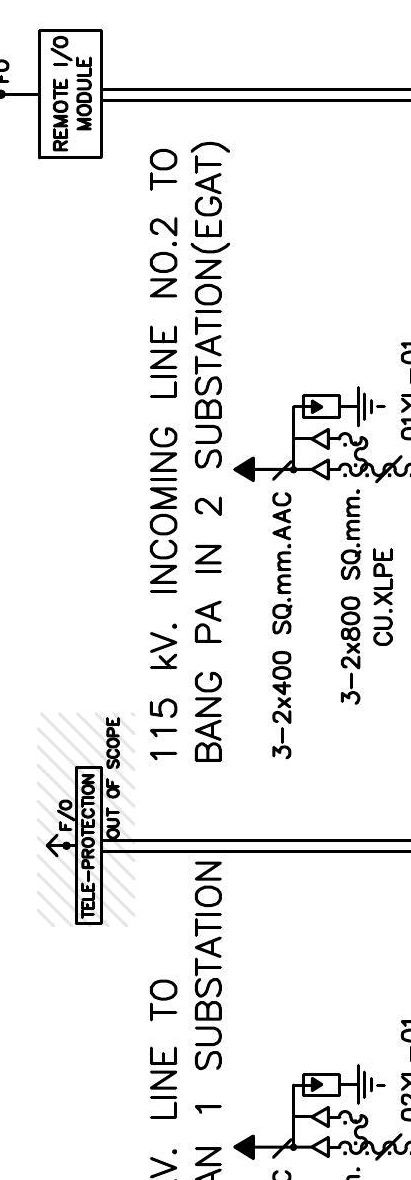115_la: (302, 1063, 387, 1106), (302, 385, 387, 428)
remote_io_module: (38, 29, 103, 160)
tele_protection: (74, 765, 104, 926)
terminator_double: (291, 1105, 331, 1160), (291, 427, 331, 482)
